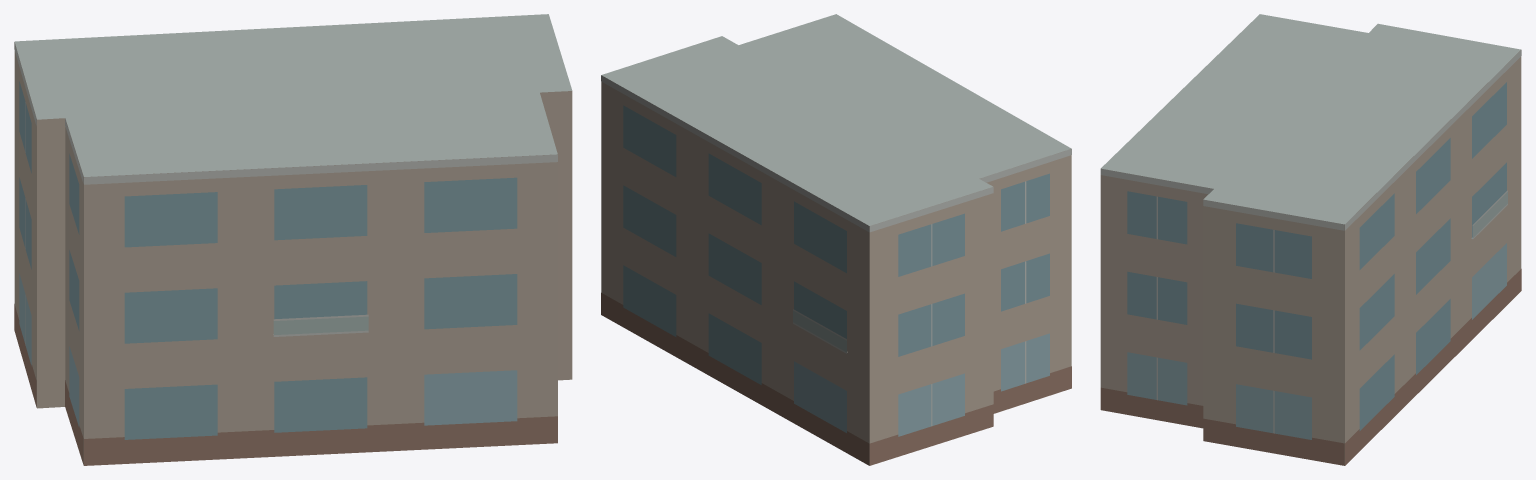
File: survey-upis-32937419.glb
3 renders of one model, left to right at view 1: azimuth 30°, elevation 25°; view 2: azimuth 150°, elevation 25°; view 3: azimuth 270°, elevation 25°, orthographic. The views are drawn at different scales.
Visible parts, largest first — view 1: survey-upis-32937419.tmp; view 2: survey-upis-32937419.tmp; view 3: survey-upis-32937419.tmp.
Part boxes in pixels (x1,y1,x2,y2): survey-upis-32937419.tmp: [14, 14, 572, 465]; survey-upis-32937419.tmp: [601, 14, 1071, 465]; survey-upis-32937419.tmp: [1100, 14, 1521, 465].
Size of the model in its own units: 17.11 by 9.15 by 14.46.
